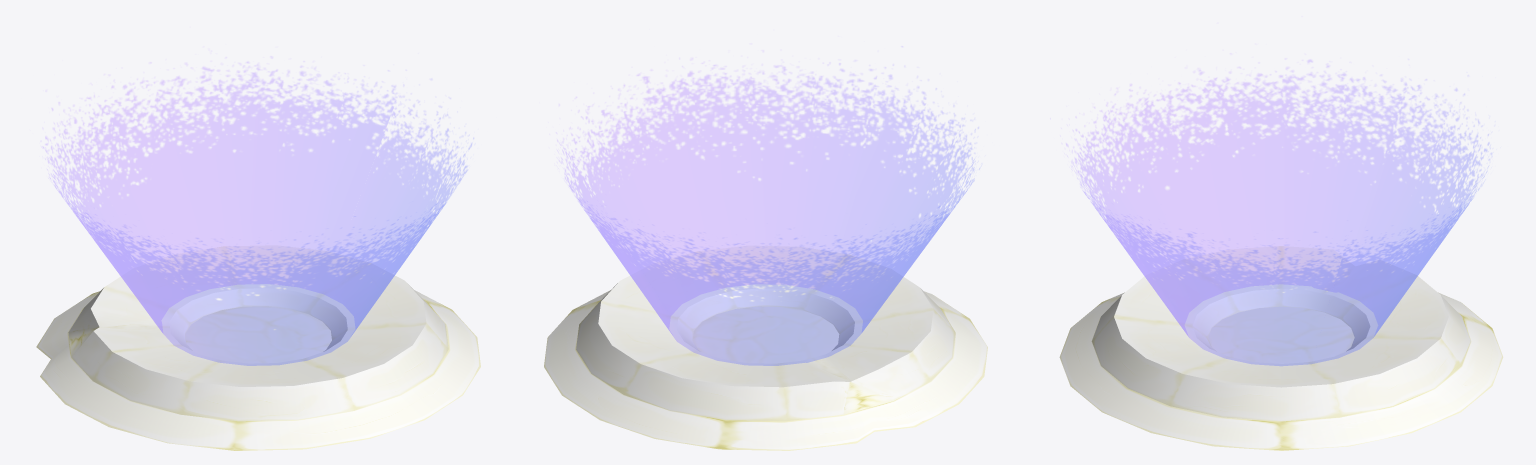
File: portal.glb
The picture shows the model from 3 angles, left to right: view 1: azimuth 30°, elevation 25°; view 2: azimuth 150°, elevation 25°; view 3: azimuth 270°, elevation 25°; orthographic projection.
Parts seen in each view (by area): view 1: polySurface1, pCylinder2; view 2: polySurface1, pCylinder2; view 3: polySurface1, pCylinder2.
Boxes of the visible parts, x1,y1,x2,y2 form: polySurface1: [43, 56, 473, 365]; pCylinder2: [36, 245, 480, 450]; polySurface1: [556, 46, 979, 365]; pCylinder2: [544, 245, 987, 450]; polySurface1: [1050, 59, 1491, 365]; pCylinder2: [1059, 246, 1503, 450].
Size of the model in its own units: 0.187 by 0.1025 by 0.1866.
Materials: 2 (2 with a texture image).
